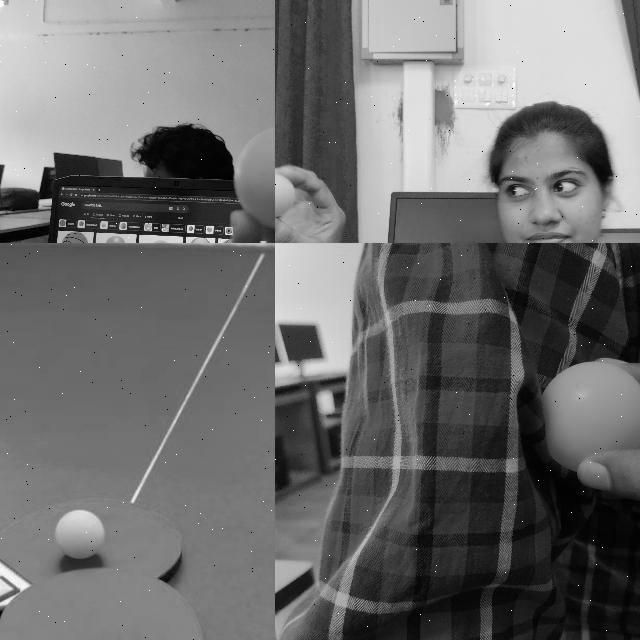ping-pong-ball: (542, 360, 639, 474), (233, 126, 274, 230), (60, 508, 104, 560), (275, 172, 295, 219)
